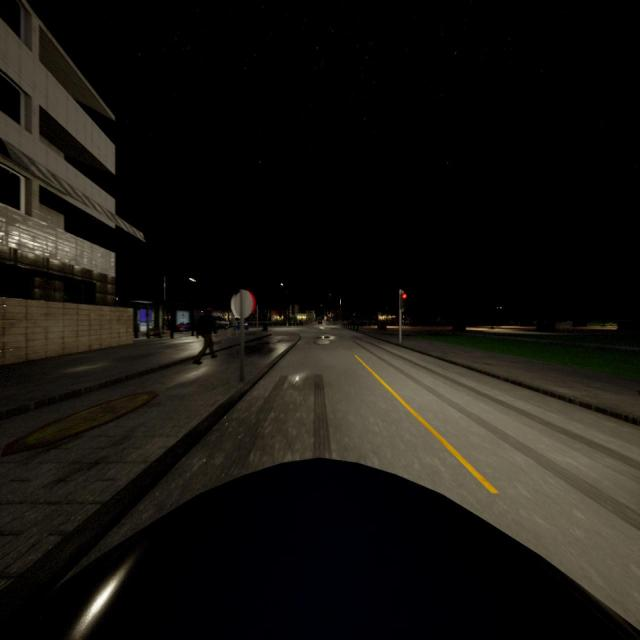Pedestrian: (192, 307, 219, 365)
Traffic_Signs: (231, 289, 255, 320)
Vehicle: (0, 454, 640, 640), (212, 311, 228, 333), (232, 321, 248, 331), (317, 319, 322, 325)
traffic_light: (400, 293, 407, 308)
